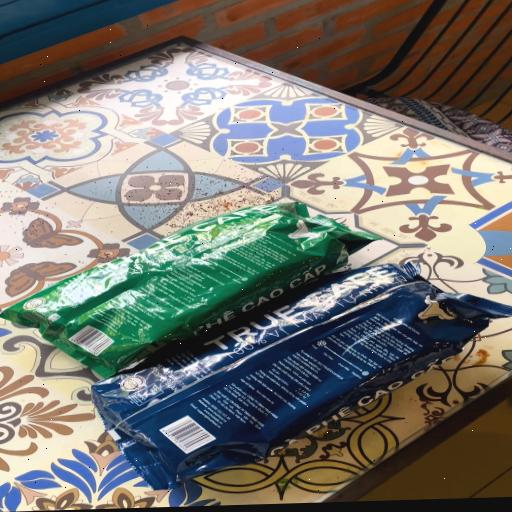cafe_hat: (94, 263, 512, 488)
cafe_xay: (0, 201, 379, 378)
